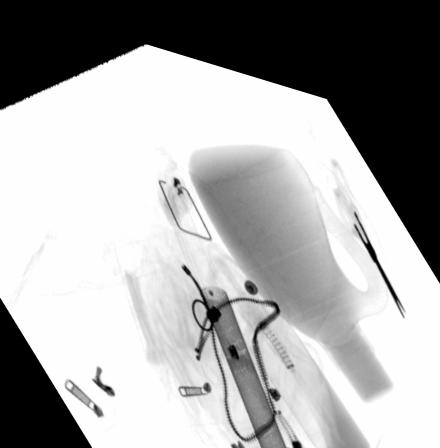Scissors: (335, 163, 405, 294)
